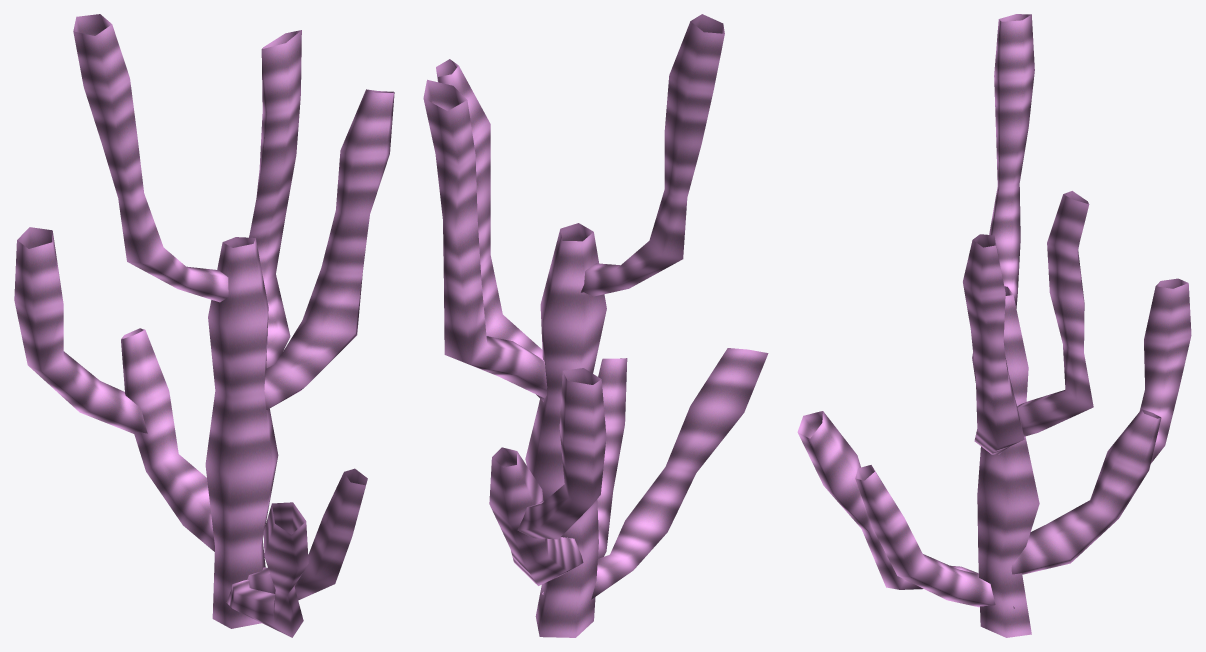
The model's file is SG_envProp_Coral4v2.FBX.
3 renders of one model, left to right at view 1: azimuth 30°, elevation 25°; view 2: azimuth 150°, elevation 25°; view 3: azimuth 270°, elevation 25°, orthographic. The views are drawn at different scales.
Parts seen in each view (by area): view 1: SG_envProp_Coral4v2; view 2: SG_envProp_Coral4v2; view 3: SG_envProp_Coral4v2.
Boxes of the visible parts, <box> form: SG_envProp_Coral4v2: <box>14,14,394,637</box>; SG_envProp_Coral4v2: <box>423,14,768,637</box>; SG_envProp_Coral4v2: <box>797,14,1191,637</box>.
Size of the model in its own units: 37.8 by 75.8 by 48.9.
1 material, 1 textured.
